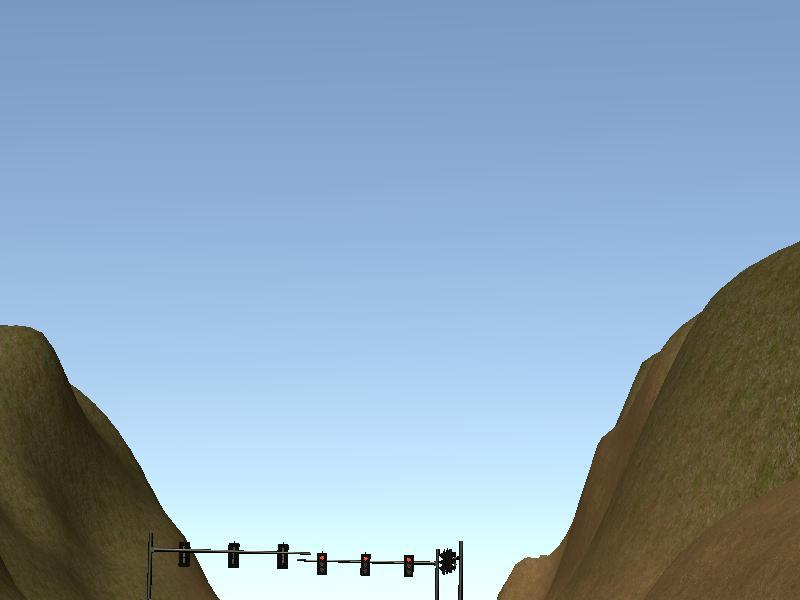Red: (360, 551, 371, 578), (316, 553, 326, 575), (404, 554, 412, 578)
